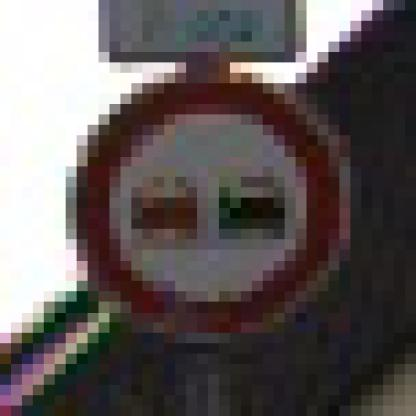No Overtaking: (56, 63, 362, 365)
